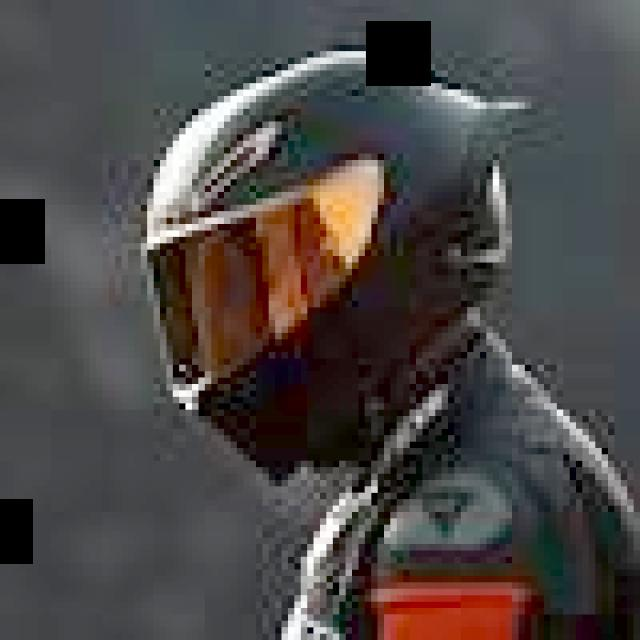Helmet: (113, 19, 549, 483)
